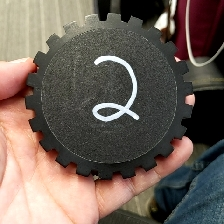gear: (23, 11, 195, 182)
